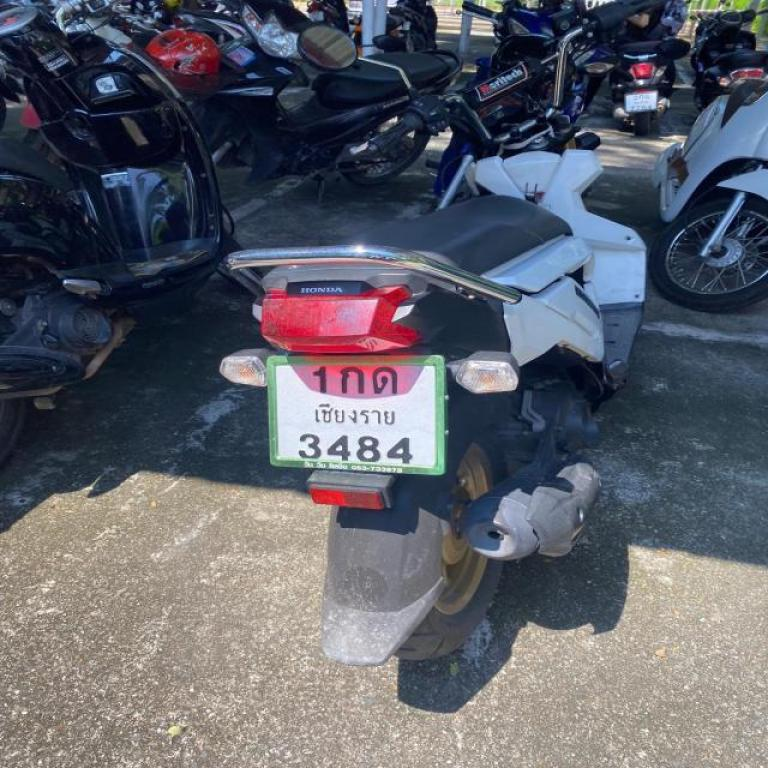license plate: (265, 348, 450, 480), (624, 84, 659, 116)
